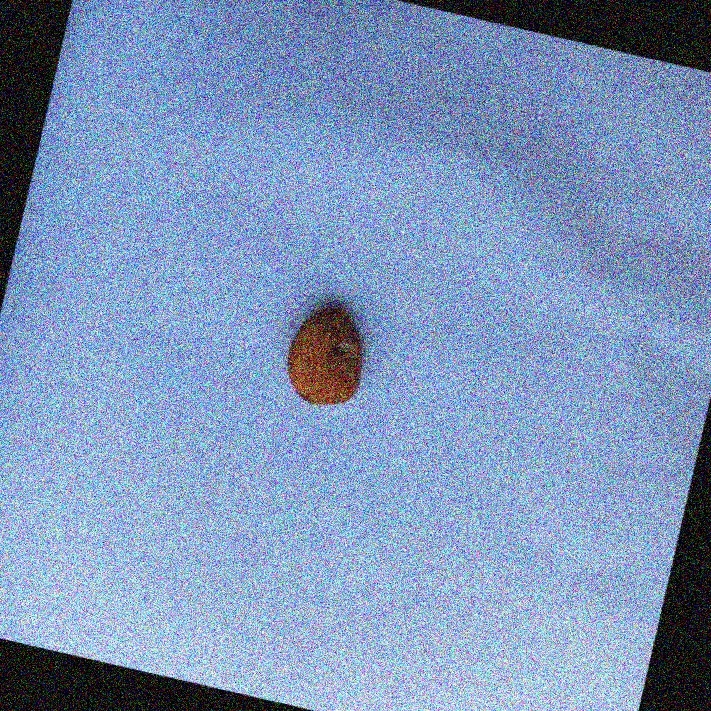grade3: (276, 293, 381, 419)
